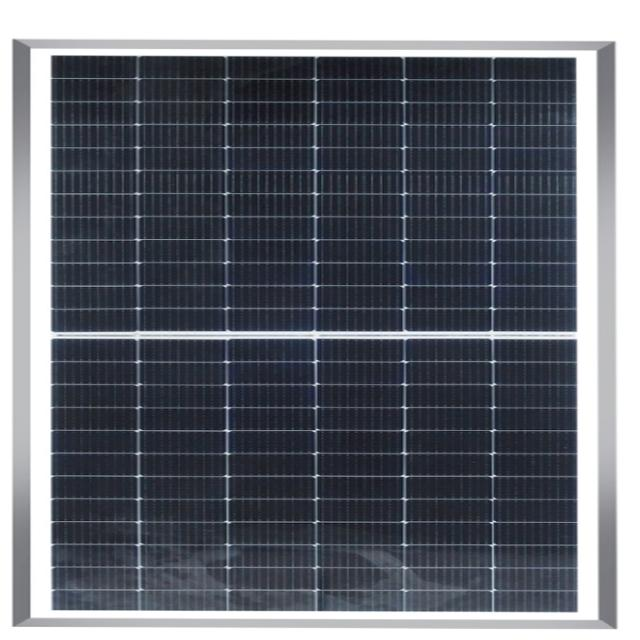clean-solar-panel: (47, 54, 577, 612)
